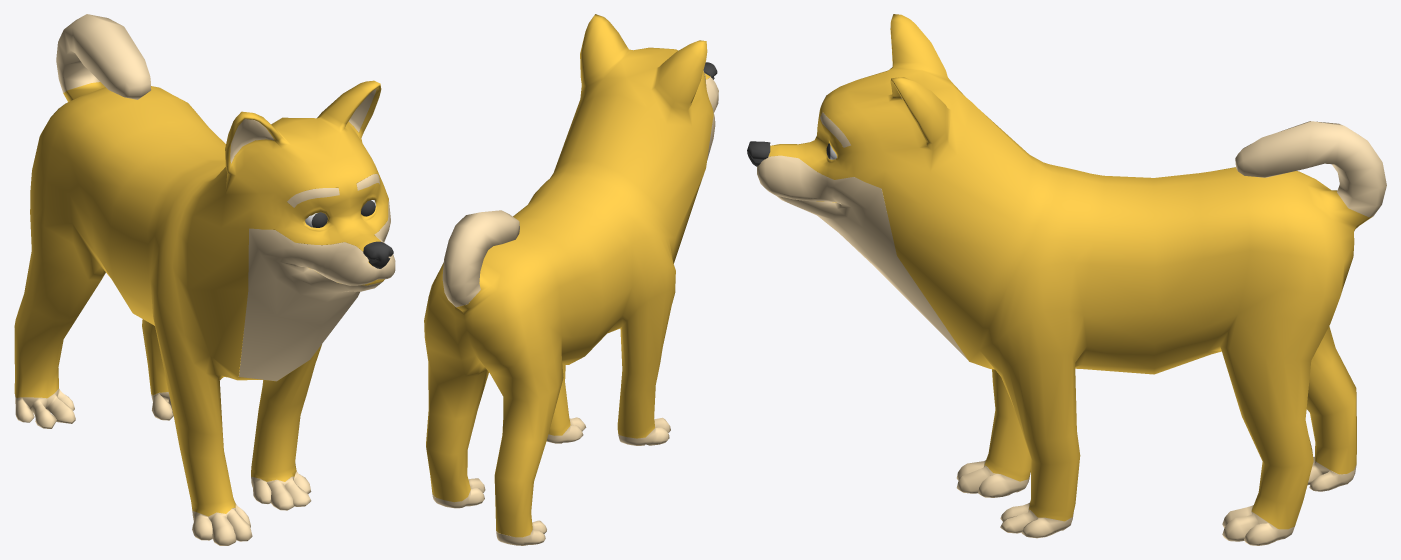
The picture shows the model from 3 angles, left to right: view 1: azimuth 30°, elevation 25°; view 2: azimuth 150°, elevation 25°; view 3: azimuth 270°, elevation 25°; orthographic projection. The views are drawn at different scales.
Parts seen in each view (by area): view 1: body, nose, eyes; view 2: body; view 3: body.
Boxes of the visible parts, bbox=[...] form: body: bbox=[14, 14, 395, 545]; nose: bbox=[363, 241, 393, 268]; eyes: bbox=[305, 200, 375, 227]; body: bbox=[424, 14, 718, 545]; body: bbox=[757, 14, 1386, 545].
Size of the model in its own units: 0.7283 by 1.83 by 2.31.
